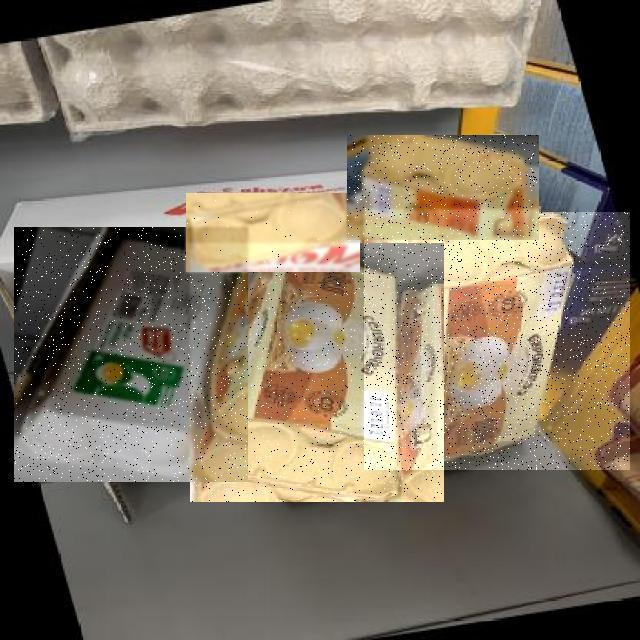egg: (49, 235, 640, 640), (0, 251, 414, 640), (78, 121, 616, 363), (6, 136, 366, 408), (0, 241, 138, 640)
